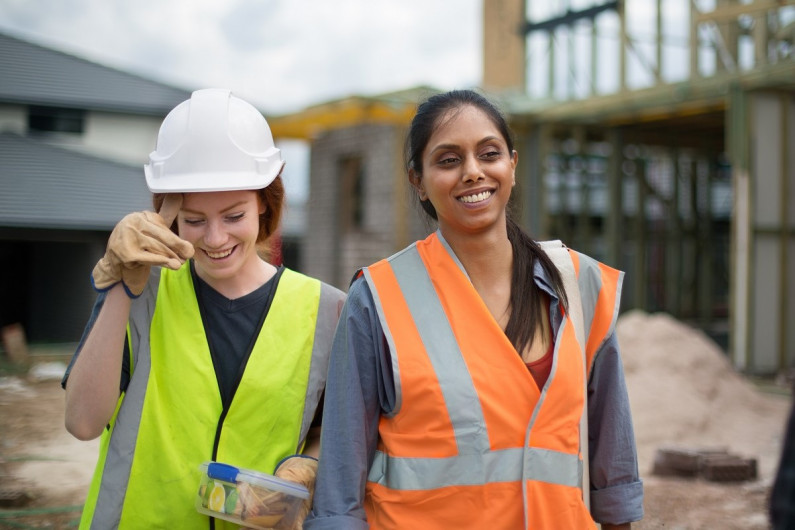jacket: (354, 234, 622, 530), (143, 256, 315, 530)
white_hat: (147, 93, 289, 203)
